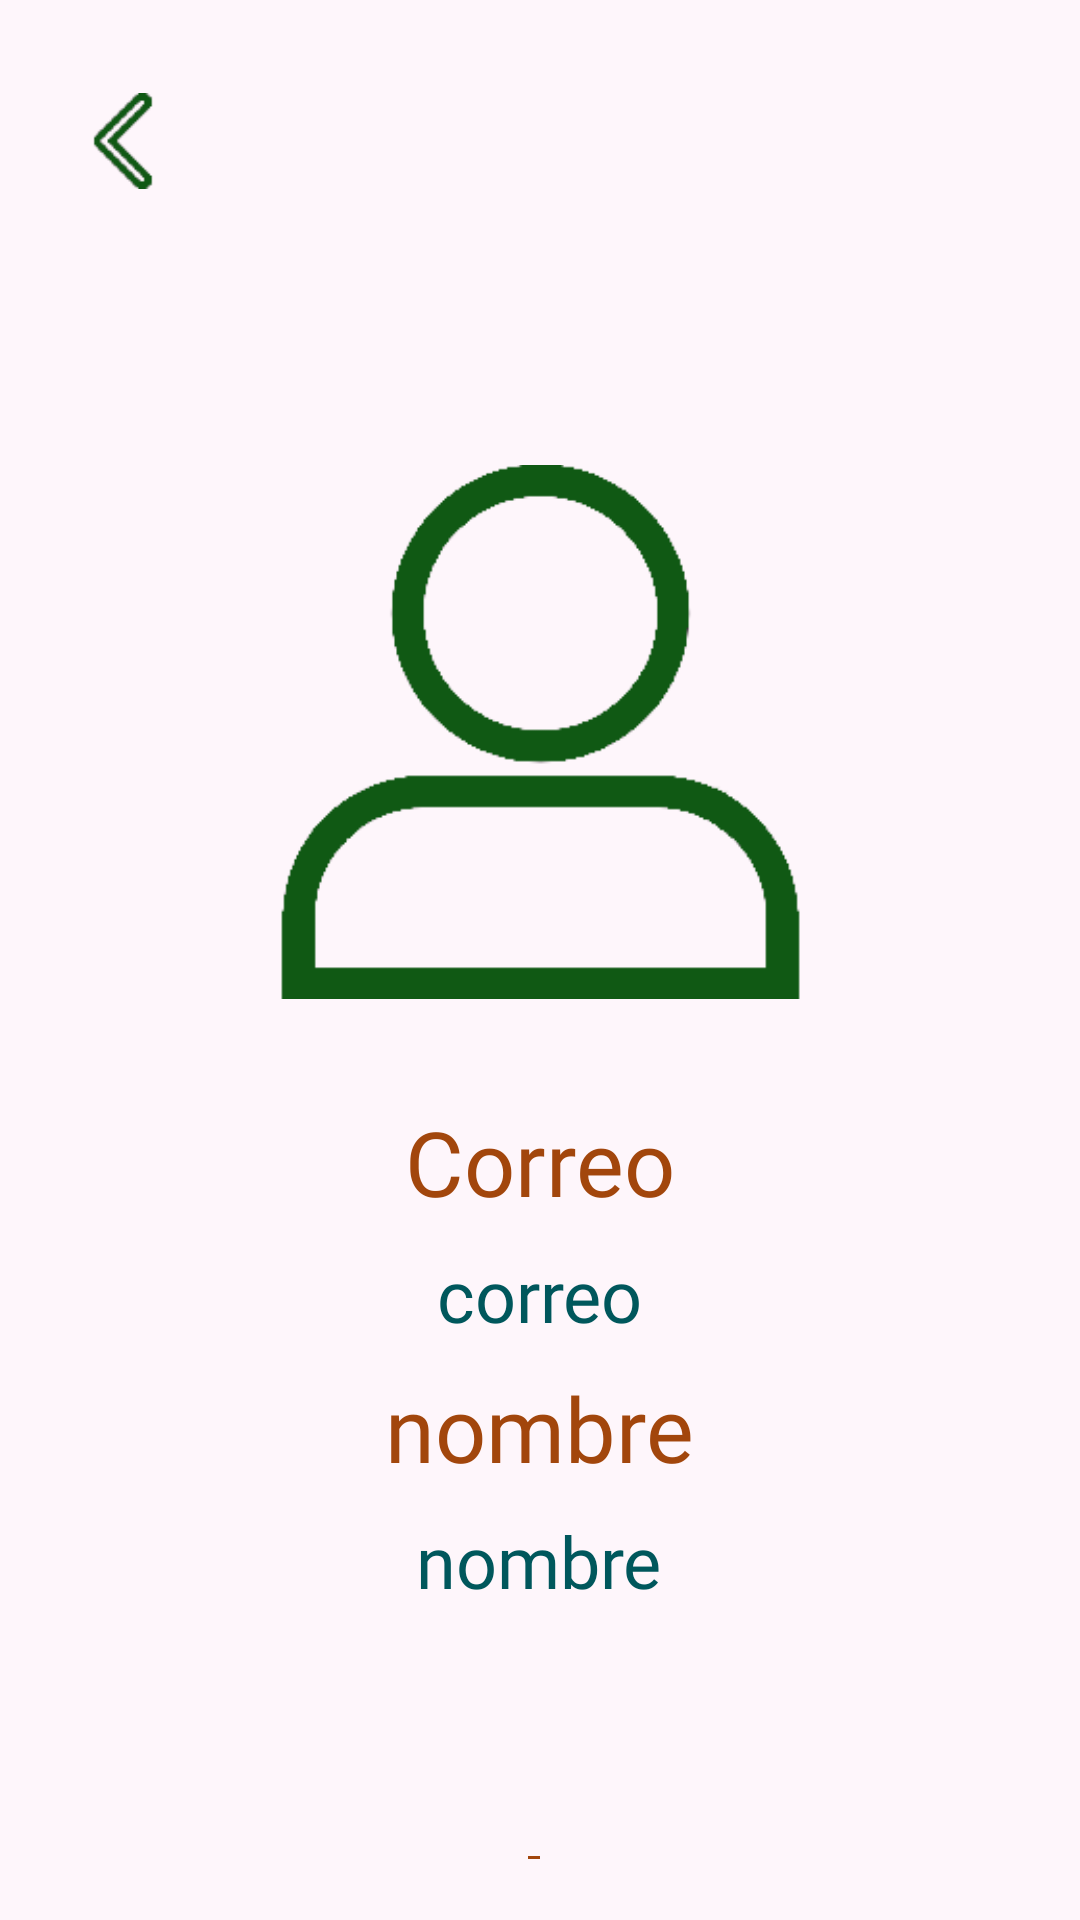

Where icons sit on this 1080×1920 app screen, as box(x1, y1, x2, y2):
flecha: box(93, 93, 153, 189)
